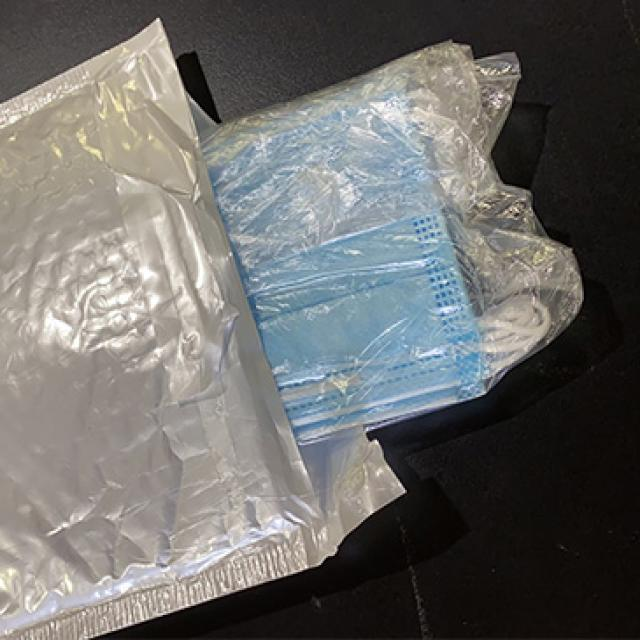non-organic waste: (208, 68, 492, 461)
